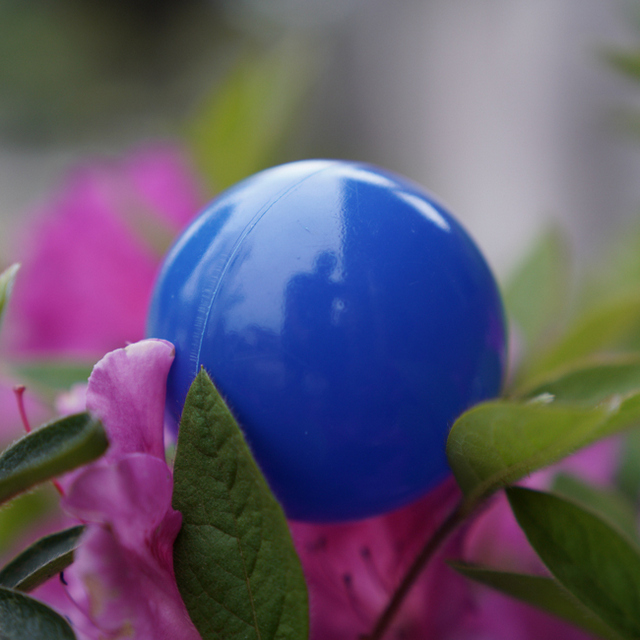Ball: (140, 160, 505, 523)
